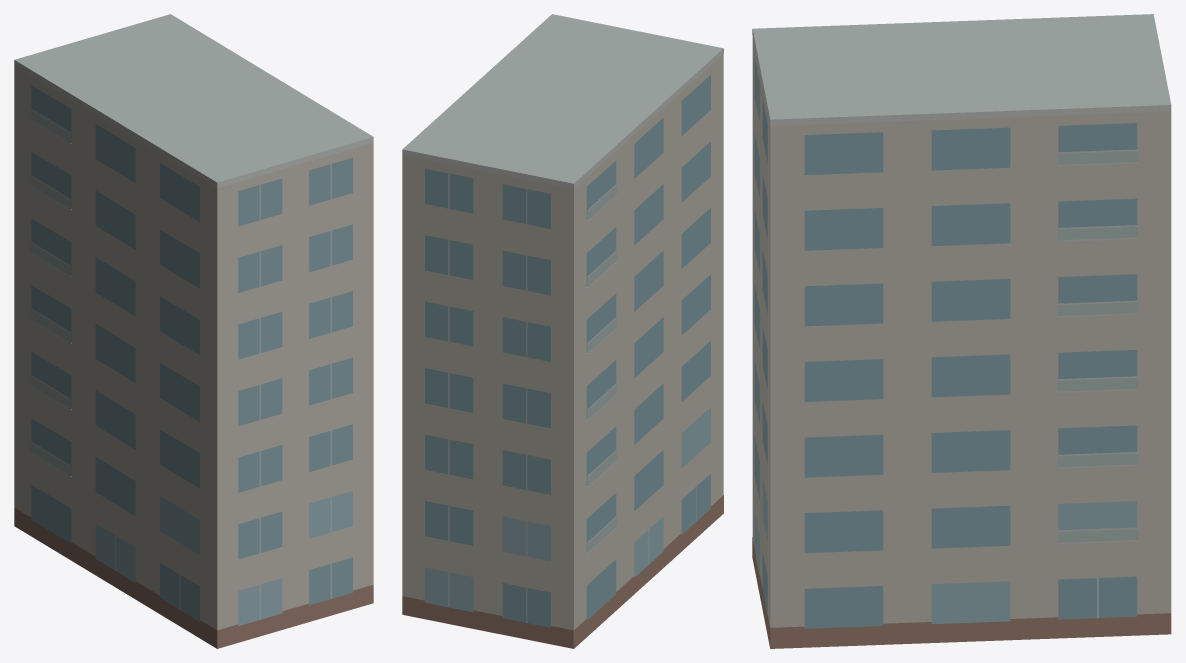
Rendered from survey-upis-32917529.glb.
The picture shows the model from 3 angles, left to right: view 1: azimuth 30°, elevation 25°; view 2: azimuth 150°, elevation 25°; view 3: azimuth 270°, elevation 25°; orthographic projection. The views are drawn at different scales.
Visible parts, largest first — view 1: survey-upis-32917529.tmp; view 2: survey-upis-32917529.tmp; view 3: survey-upis-32917529.tmp.
Part boxes in pixels (x1,y1,x2,y2): survey-upis-32917529.tmp: [14, 14, 373, 648]; survey-upis-32917529.tmp: [402, 14, 723, 648]; survey-upis-32917529.tmp: [752, 14, 1171, 648].
Size of the model in its own units: 8.65 by 20.2 by 14.5.
